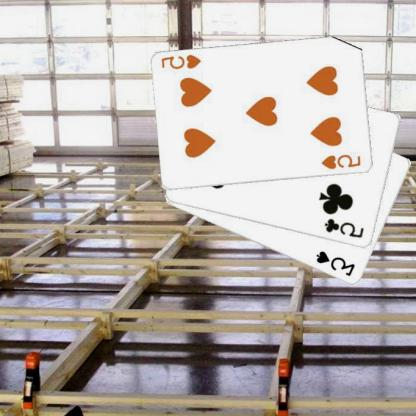3S: (315, 248, 358, 278)
5C: (324, 216, 367, 240)
5H: (161, 52, 205, 71), (321, 152, 364, 171)
